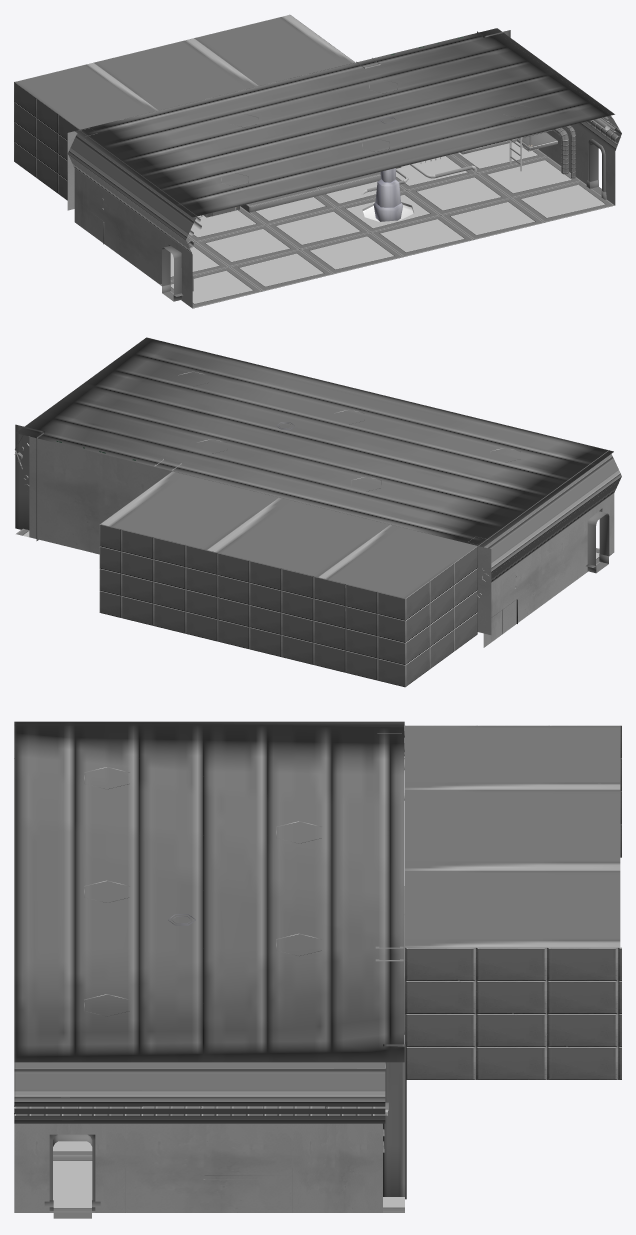
Rendered from MSH_Power_Plant_room_L2_R3_optimized.fbx.
3 renders of one model, top to bottom at view 1: azimuth 30°, elevation 25°; view 2: azimuth 150°, elevation 25°; view 3: azimuth 270°, elevation 25°, orthographic. The views are drawn at different scales.
Parts seen in each view (by area): view 1: lightmap0, lightmap1, lightmap-1, MSH_Power_Plant_room_ani01 1; view 2: lightmap0, lightmap-1; view 3: lightmap0, lightmap1.
Part boxes in pixels (x1,y1,x2,y2): lightmap0: [14, 14, 621, 308]; lightmap1: [81, 58, 620, 291]; lightmap-1: [162, 143, 601, 301]; MSH_Power_Plant_room_ani01 1: [373, 117, 402, 221]; lightmap0: [15, 337, 621, 687]; lightmap-1: [587, 511, 609, 573]; lightmap0: [14, 721, 621, 1212]; lightmap1: [14, 731, 404, 1179].
Size of the model in its own units: 30.91 by 6.72 by 22.55.
